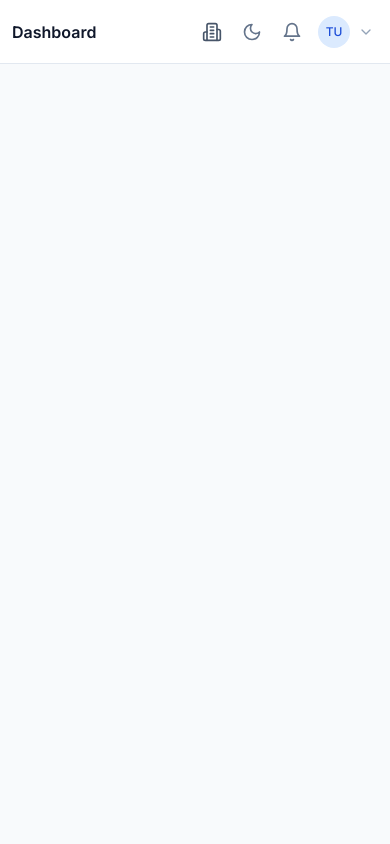
it: TopBar notification feed › displays and switches the persistent financial-year context in wide and narrow layouts
Earlier steps of the test are not shown.
Click the button named "Choose municipality context".
click(212, 32)  # box top-left (194, 14), bottom-right (230, 50)
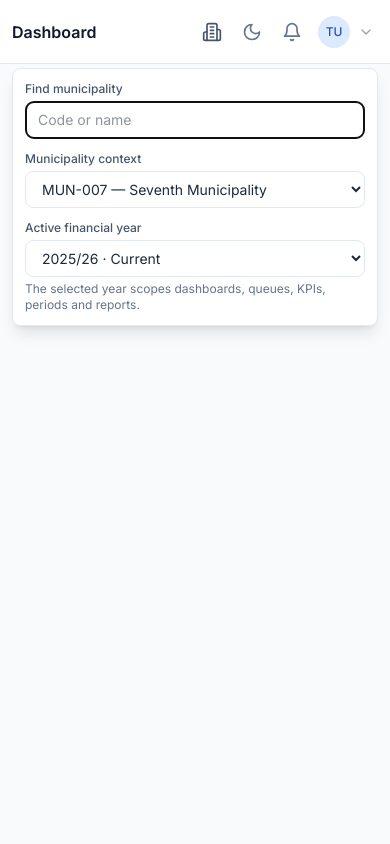
Expected: the dropdown named "Active financial year on narrow screens" is shown, top-left (25, 240), bottom-right (365, 277)
